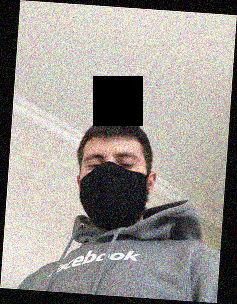with_mask: (80, 147, 148, 230)
